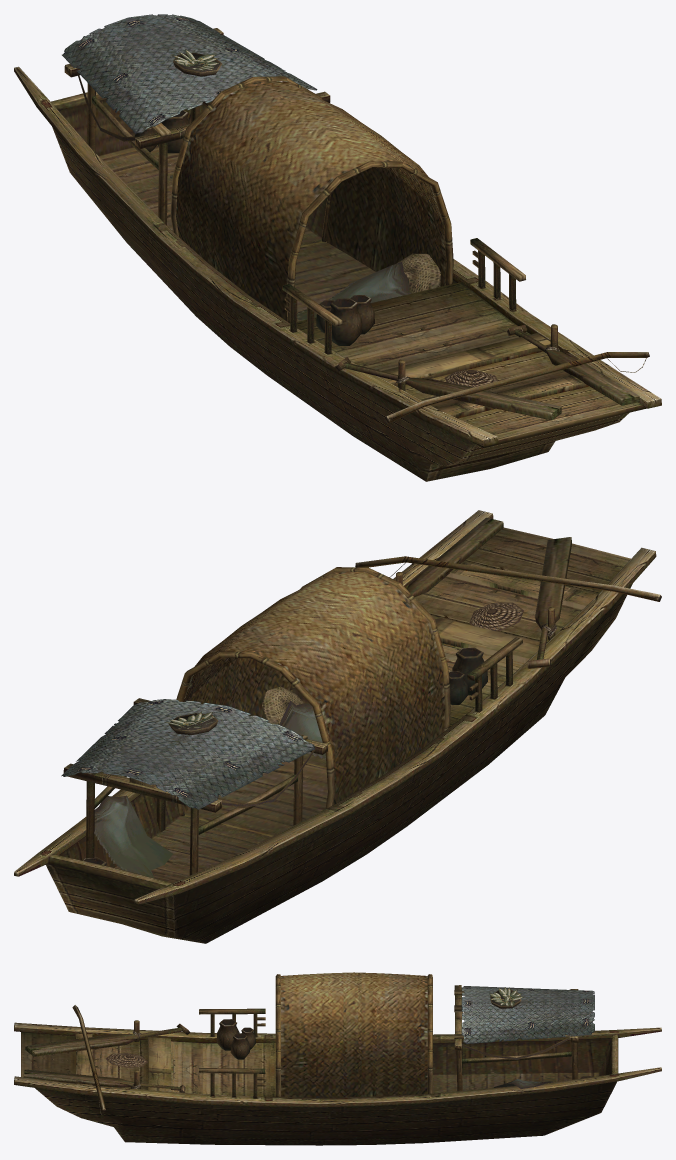
Rendered from C5_Boat_1.FBX.
3 renders of one model, top to bottom at view 1: azimuth 30°, elevation 25°; view 2: azimuth 150°, elevation 25°; view 3: azimuth 270°, elevation 25°, orthographic. The views are drawn at different scales.
Parts seen in each view (by area): view 1: C5_Boat_1; view 2: C5_Boat_1; view 3: C5_Boat_1.
Boxes of the visible parts, box(x1,y1,x2,y2) form: C5_Boat_1: box(14, 14, 661, 481); C5_Boat_1: box(14, 510, 661, 943); C5_Boat_1: box(14, 972, 661, 1145).
Bounding box in the file's own units: 735 × 543 × 2218.
